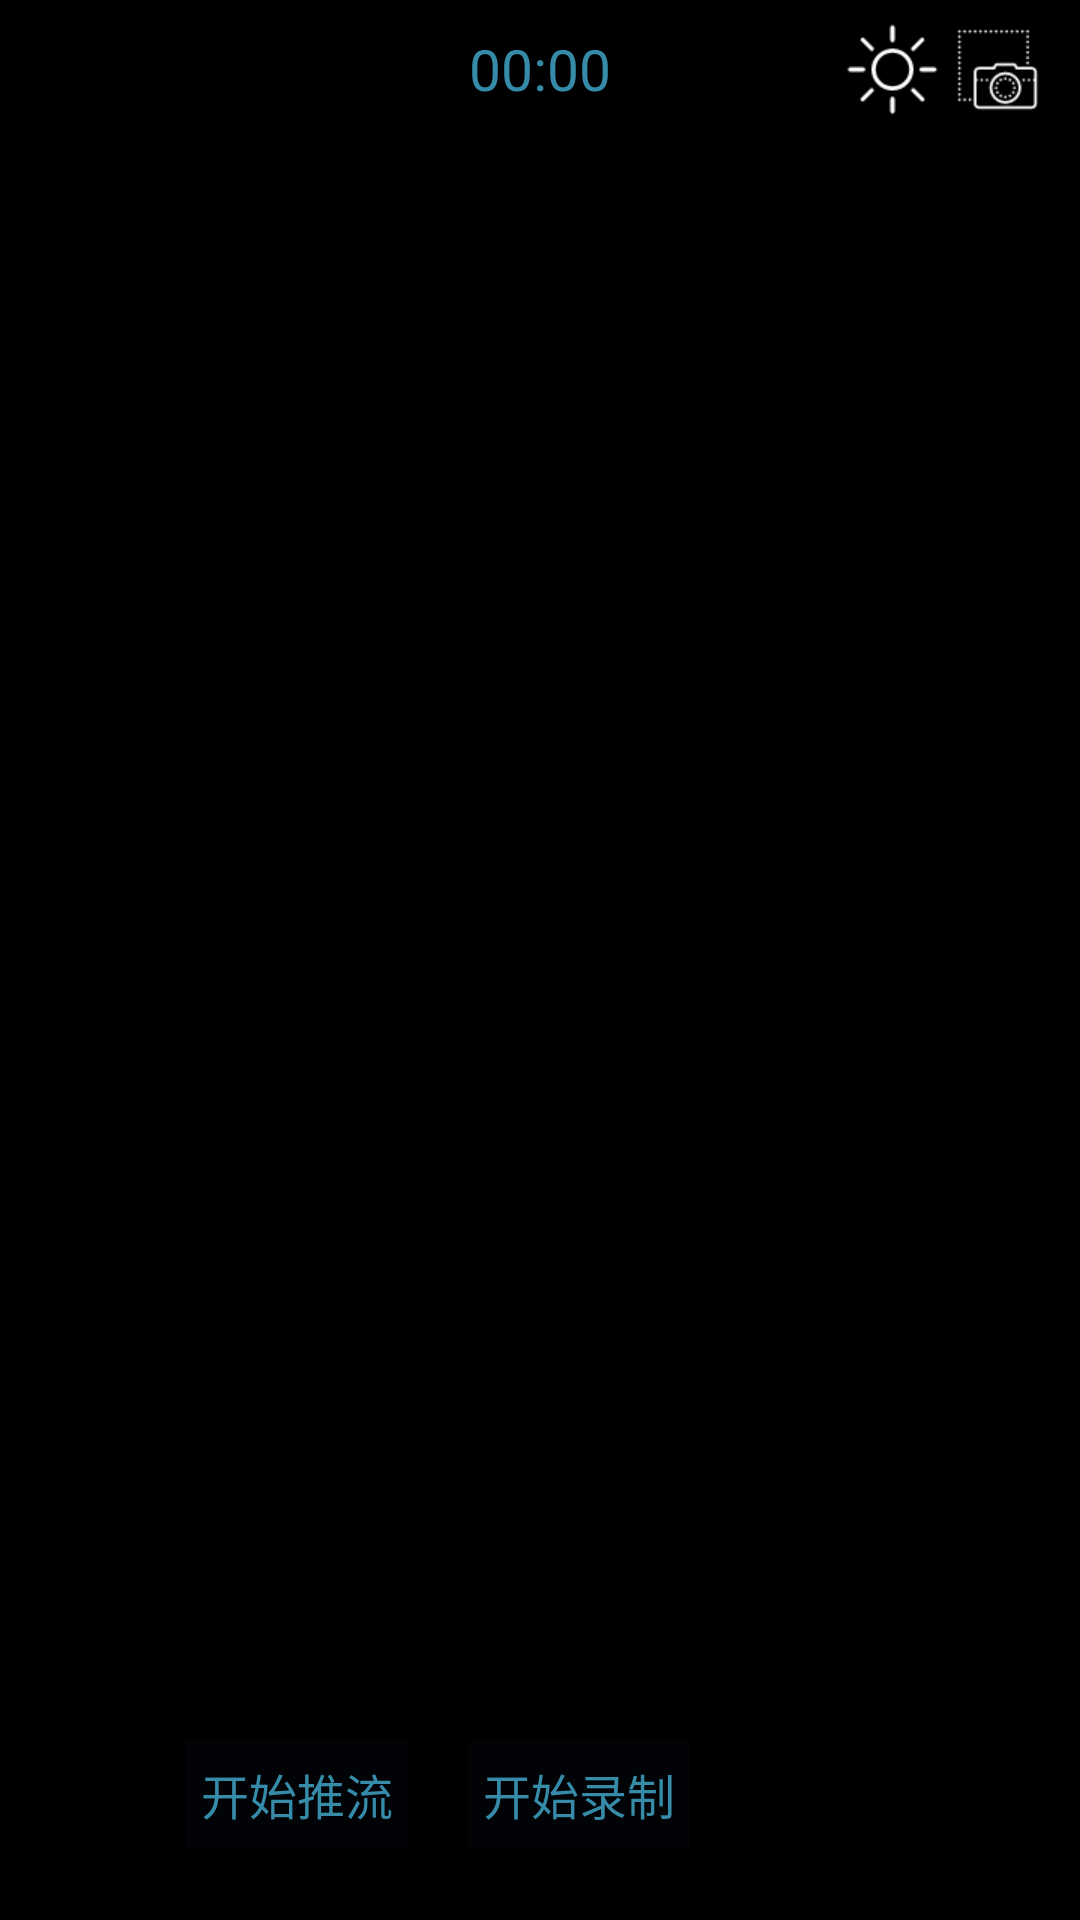

Named icons in this screenshot (1080 x 1920) and their bounding boxes, (x1, y1, x2, y2):
camera exposure: (847, 24, 938, 115)
screen cap: (957, 29, 1038, 110)
